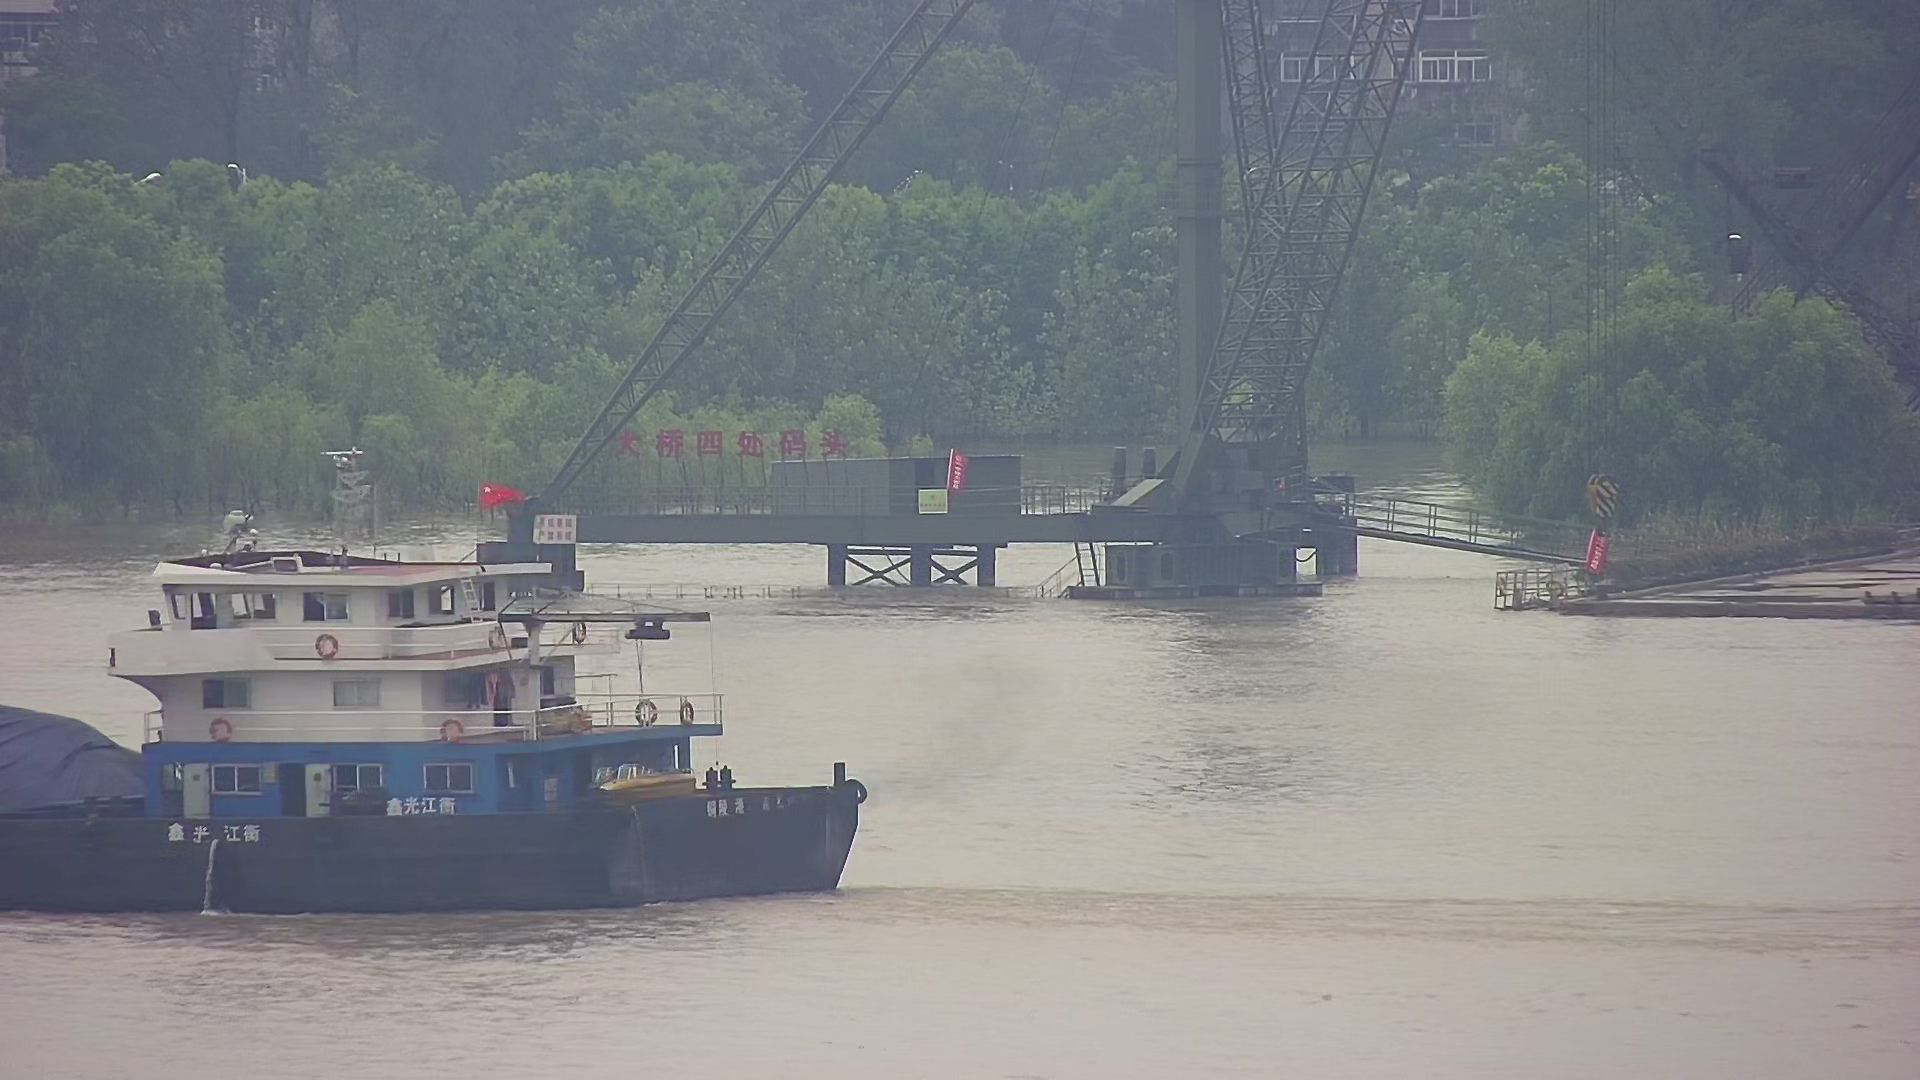platform: (450, 1, 1449, 608)
ship: (1, 425, 887, 918)
